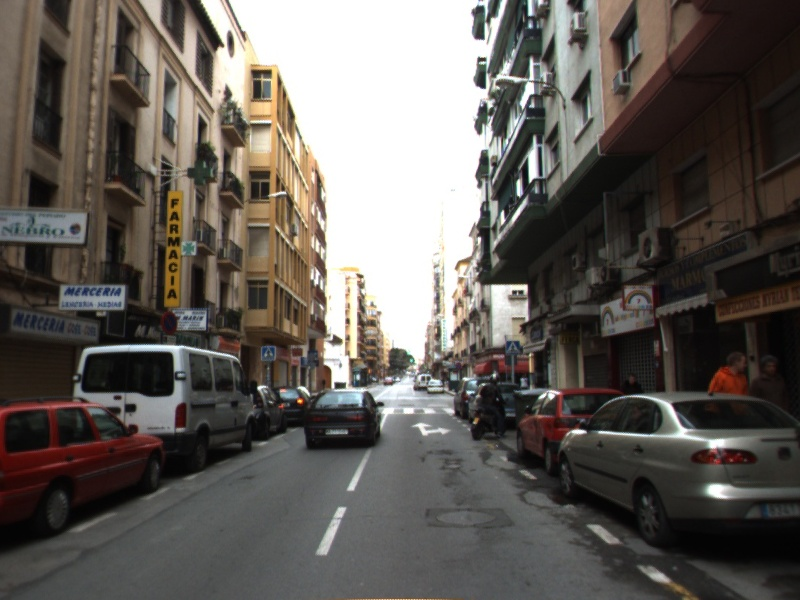STRAIGHT_RIGHT: (409, 420, 453, 438)
